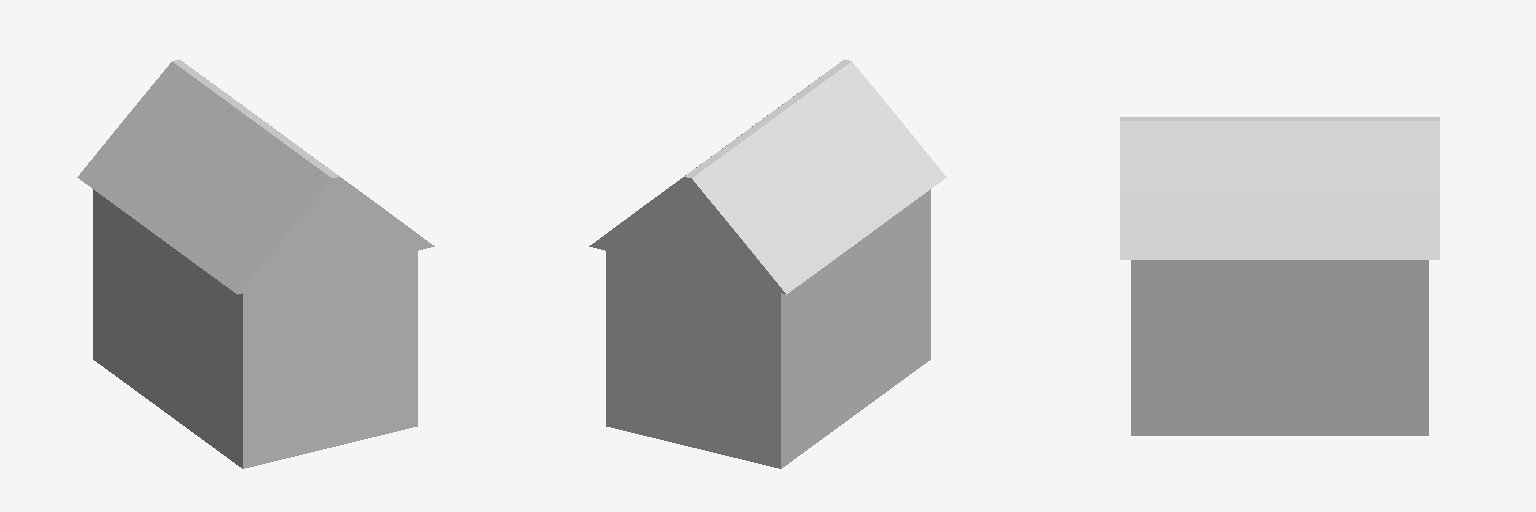
File: house3.obj
3 views of the same model, side by side, from view 1: azimuth 30°, elevation 25°; view 2: azimuth 150°, elevation 25°; view 3: azimuth 270°, elevation 25° (orthographic).
Visible parts, largest first — view 1: house1; view 2: house1; view 3: house1.
Boxes of the visible parts, box(x1,y1,x2,y2) form: house1: box(77, 59, 434, 468); house1: box(589, 59, 946, 468); house1: box(1120, 117, 1439, 435).
Size of the model in its own units: 140 by 186 by 197.